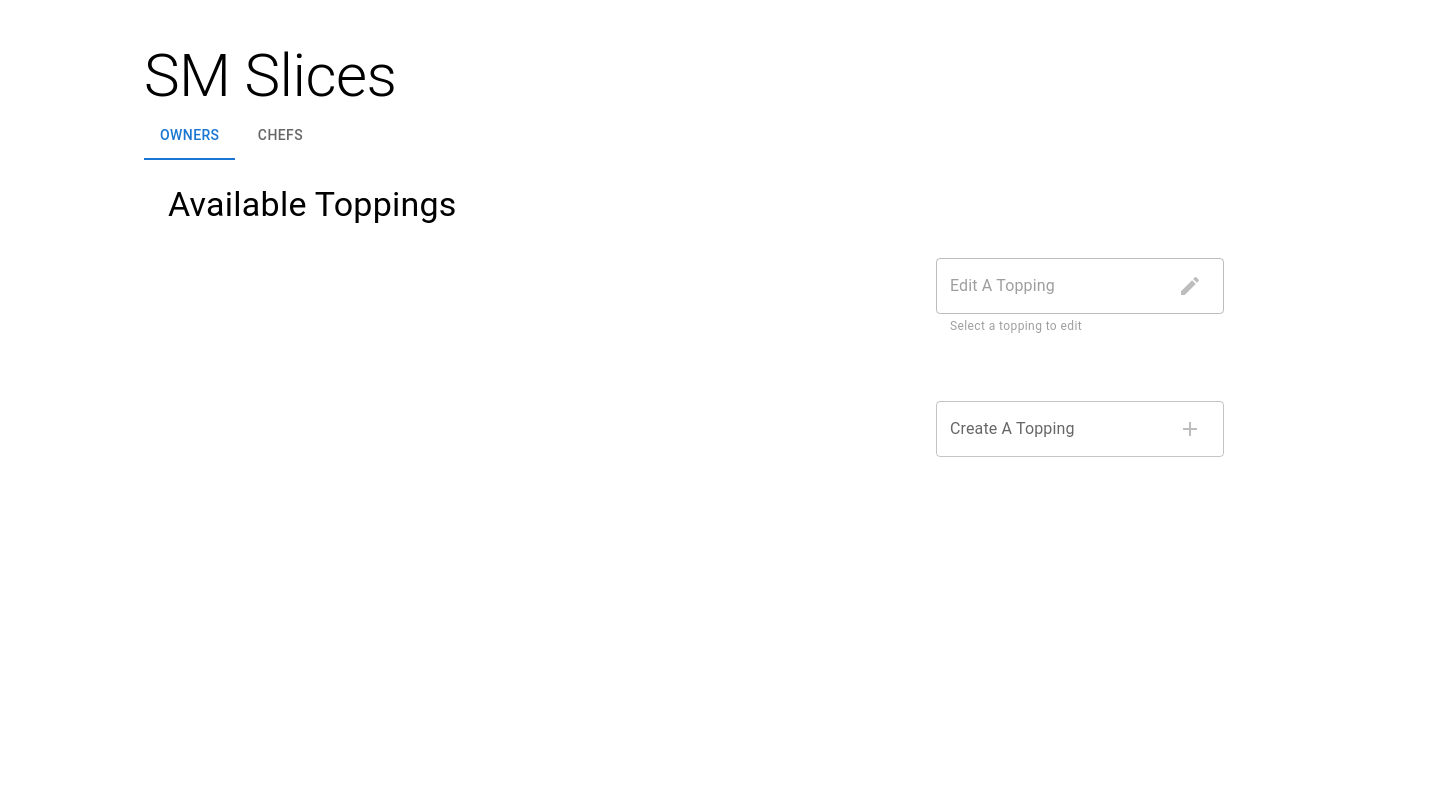
Test: App › changes tab and displays correct content when tab is clicked
Expected: the text "Available Toppings" is shown, 168,184 -> 457,224
Expected: the text "Pizzas" is not shown
Click the tab "Chefs". click: coordinates (280, 136)
box: 236,112 -> 326,160
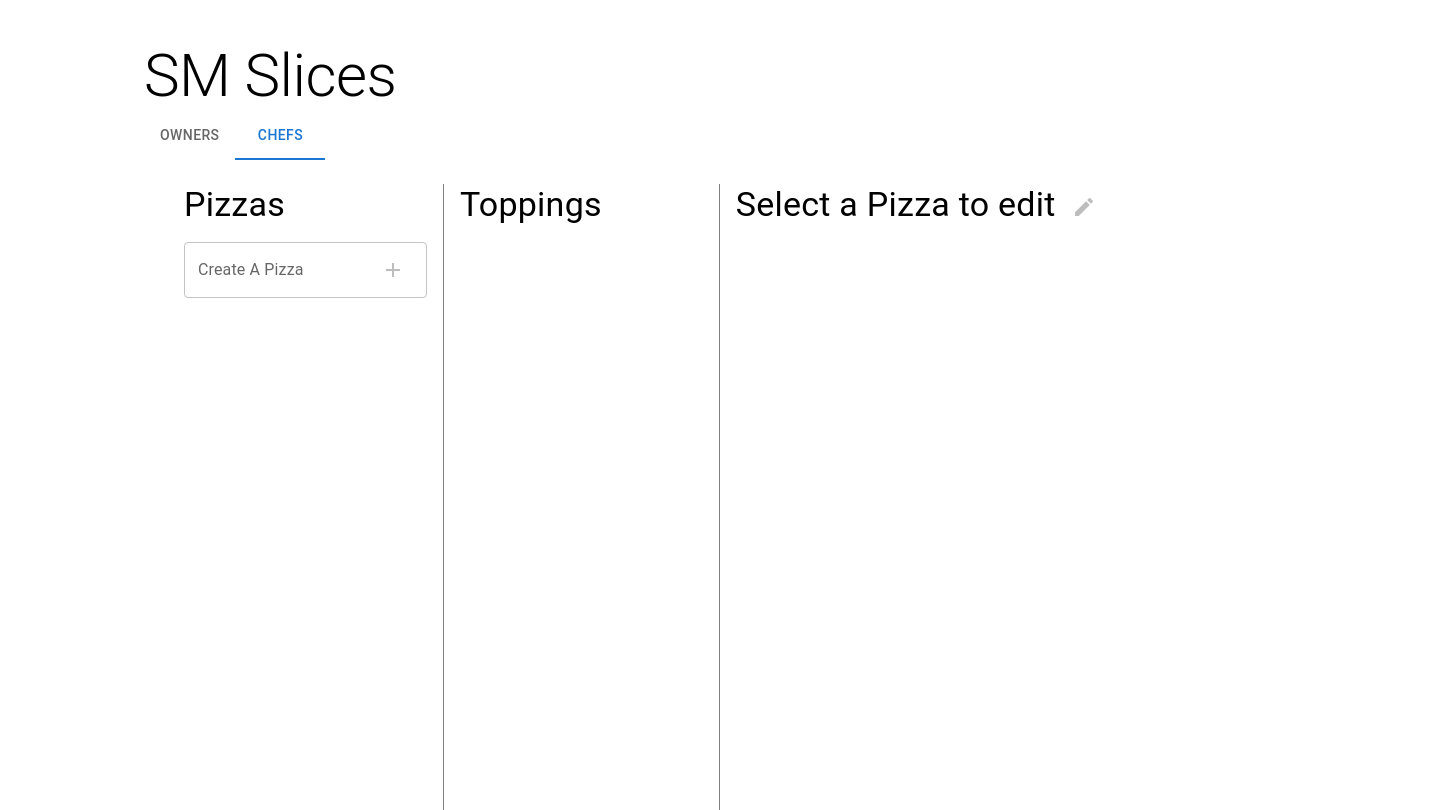
Expected: the text "Available Toppings" is gone
Expected: the text "Pizzas" is shown, 184,184 -> 285,224
